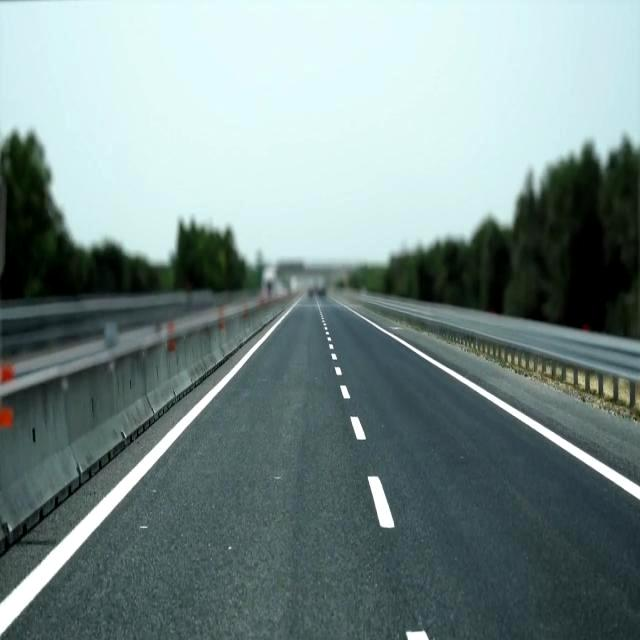lane: (0, 298, 301, 636), (341, 304, 640, 501), (599, 463, 640, 499), (368, 475, 395, 528), (351, 416, 366, 439)
road: (2, 297, 639, 639), (0, 339, 255, 597), (396, 329, 639, 482)
